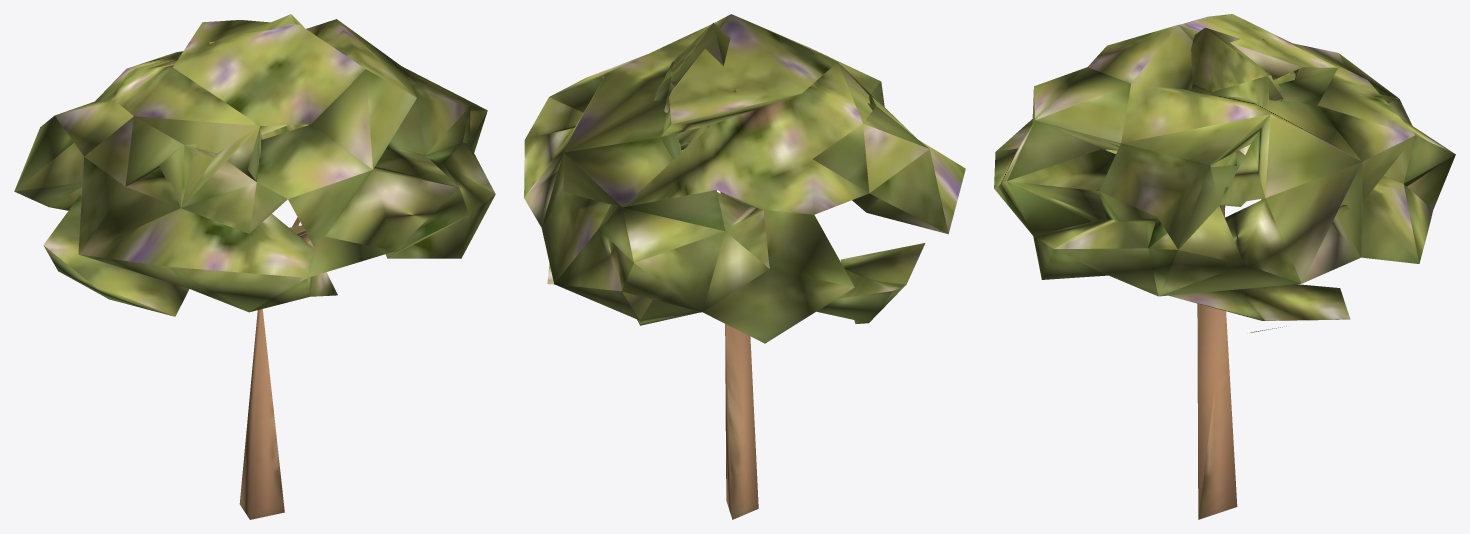
File: tree_round_a_far.glb
3 renders of one model, left to right at view 1: azimuth 30°, elevation 25°; view 2: azimuth 150°, elevation 25°; view 3: azimuth 270°, elevation 25°, orthographic. The views are drawn at different scales.
Parts seen in each view (by area): view 1: body; view 2: body; view 3: body.
Boxes of the visible parts, bbox=[...] form: body: bbox=[14, 14, 495, 519]; body: bbox=[524, 14, 965, 519]; body: bbox=[994, 14, 1455, 519].
Bounding box in the file's own units: 4.76 × 5.47 × 4.6.
Materials: 2 (2 with a texture image).
